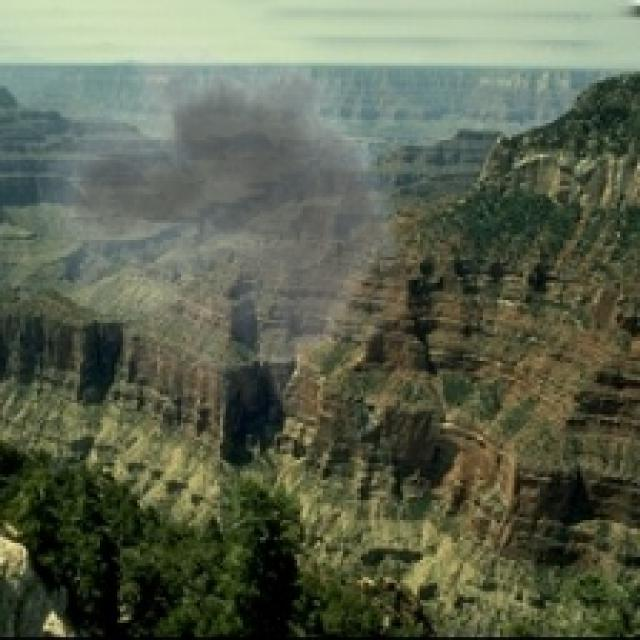smoke: (34, 23, 420, 411)
